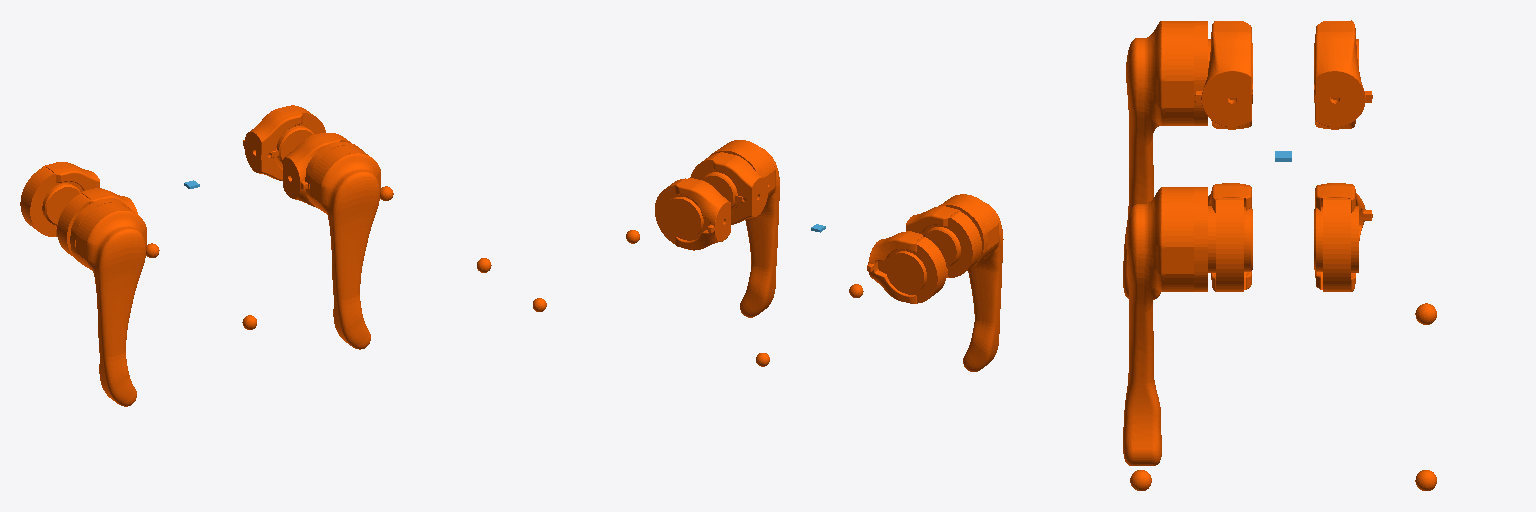
--- What the picture shows (computed from the rendered views, not written in the file) ---
3 views of the same robot in one strip: view 1: azimuth 30°, elevation 25°; view 2: azimuth 150°, elevation 25°; view 3: azimuth 270°, elevation 25° (orthographic).
Robot: robot — 18 links, 17 joints (12 revolute, 5 fixed); root link base; default pose: joints at zero except 4 at the middle of their limits (RF_KFE = -1.81, LF_KFE = -1.81, RH_KFE = -1.81, LH_KFE = -1.81).
Visible links, largest first — view 1: RH_thigh, RF_thigh, LH_hip, LF_hip, RF_hip, RH_hip; view 2: RH_thigh, RF_thigh, LH_hip, LF_hip, RF_hip, RH_hip; view 3: RF_thigh, RH_thigh, LF_hip, LH_hip, RH_hip, RF_hip.
Link boxes in pixels (x1,y1,x2,y2): RH_thigh: (70,199,146,406); RF_thigh: (305,142,380,349); LH_hip: (20,162,99,236); LF_hip: (243,105,325,180); RF_hip: (283,133,350,207); RH_hip: (57,188,137,258); RH_thigh: (939,194,1003,371); RF_thigh: (710,140,779,317); LH_hip: (867,231,946,303); LF_hip: (655,178,730,250); RF_hip: (690,152,769,224); RH_hip: (906,206,981,277); RF_thigh: (1123,187,1207,465); RH_thigh: (1123,21,1207,299); LF_hip: (1314,183,1372,291); LH_hip: (1314,20,1372,129); RH_hip: (1195,21,1252,129); RF_hip: (1208,183,1252,291).
Size in the robot's own frame: 0.6137 by 0.2883 by 0.277 metres.
6 mesh visuals loaded from 5 distinct referenced files (2 binary STL); not drawn: 7 (reference not matched to a file when rendering).

robot.urdf — robot:
<?xml version="1.0" ?>
<!-- from: legged_unitree/legged_unitree_description/urdf/a1.urdf -->
<!-- =================================================================================== -->
<!-- |    This document was autogenerated by xacro from ./robot.xacro                  | -->
<!-- |    EDITING THIS FILE BY HAND IS NOT RECOMMENDED                                 | -->
<!-- =================================================================================== -->
<robot name="robot">
  <material name="black">
    <color rgba="0.0 0.0 0.0 1.0"/>
  </material>
  <material name="blue">
    <color rgba="0.0 0.0 0.8 1.0"/>
  </material>
  <material name="green">
    <color rgba="0.0 0.8 0.0 1.0"/>
  </material>
  <material name="grey">
    <color rgba="0.2 0.2 0.2 1.0"/>
  </material>
  <material name="silver">
    <color rgba="0.9137254901960784 0.9137254901960784 0.8470588235294118 1.0"/>
  </material>
  <material name="orange">
    <color rgba="1.0 0.4235294117647059 0.0392156862745098 1.0"/>
  </material>
  <material name="brown">
    <color rgba="0.8705882352941177 0.8117647058823529 0.7647058823529411 1.0"/>
  </material>
  <material name="red">
    <color rgba="0.8 0.0 0.0 1.0"/>
  </material>
  <material name="white">
    <color rgba="1.0 1.0 1.0 1.0"/>
  </material>
  <!-- ros_control plugin -->
  <gazebo>
    <plugin filename="liblegged_hw_sim.so" name="gazebo_ros_control">
      <robotNamespace>/</robotNamespace>
      <robotParam>legged_robot_description</robotParam>
      <robotSimType>legged_gazebo/LeggedHWSim</robotSimType>
    </plugin>
  </gazebo>
  <gazebo>
    <plugin filename="libgazebo_ros_p3d.so" name="p3d_base_controller">
      <alwaysOn>true</alwaysOn>
      <updateRate>1000.0</updateRate>
      <bodyName>base</bodyName>
      <topicName>ground_truth/state</topicName>
      <gaussianNoise>0</gaussianNoise>
      <frameName>world</frameName>
      <xyzOffsets>0 0 0</xyzOffsets>
      <rpyOffsets>0 0 0</rpyOffsets>
    </plugin>
  </gazebo>
  <gazebo reference="base_link">
    <maxVel>100.</maxVel>
    <kp>10000.</kp>
    <kd>0.</kd>
  </gazebo>
  <gazebo reference="stick_link">
    <mu1>0.2</mu1>
    <mu2>0.2</mu2>
    <material>Gazebo/White</material>
  </gazebo>
  <!-- LF leg -->
  <gazebo reference="LF_hip">
    <mu1>0.2</mu1>
    <mu2>0.2</mu2>
    <material>Gazebo/DarkGrey</material>
  </gazebo>
  <gazebo reference="LF_thigh">
    <mu1>0.2</mu1>
    <mu2>0.2</mu2>
    <self_collide>1</self_collide>
    <material>Gazebo/DarkGrey</material>
    <kp value="1000000.0"/>
    <kd value="1.0"/>
  </gazebo>
  <gazebo reference="LF_calf">
    <mu1>0.2</mu1>
    <mu2>0.2</mu2>
    <self_collide>1</self_collide>
  </gazebo>
  <gazebo reference="LF_FOOT">
    <mu1>0.6</mu1>
    <mu2>0.6</mu2>
    <self_collide>1</self_collide>
    <material>Gazebo/DarkGrey</material>
    <kp value="1000000.0"/>
    <kd value="100.0"/>
  </gazebo>
  <!-- RF leg -->
  <gazebo reference="RF_hip">
    <mu1>0.2</mu1>
    <mu2>0.2</mu2>
    <material>Gazebo/DarkGrey</material>
  </gazebo>
  <gazebo reference="RF_thigh">
    <mu1>0.2</mu1>
    <mu2>0.2</mu2>
    <self_collide>1</self_collide>
    <material>Gazebo/DarkGrey</material>
    <kp value="1000000.0"/>
    <kd value="1.0"/>
  </gazebo>
  <gazebo reference="RF_calf">
    <mu1>0.2</mu1>
    <mu2>0.2</mu2>
    <self_collide>1</self_collide>
  </gazebo>
  <gazebo reference="RF_FOOT">
    <mu1>0.6</mu1>
    <mu2>0.6</mu2>
    <self_collide>1</self_collide>
    <material>Gazebo/DarkGrey</material>
    <kp value="1000000.0"/>
    <kd value="1.0"/>
  </gazebo>
  <!-- LH leg -->
  <gazebo reference="LH_hip">
    <mu1>0.2</mu1>
    <mu2>0.2</mu2>
    <material>Gazebo/DarkGrey</material>
  </gazebo>
  <gazebo reference="LH_thigh">
    <mu1>0.2</mu1>
    <mu2>0.2</mu2>
    <self_collide>1</self_collide>
    <material>Gazebo/DarkGrey</material>
    <kp value="1000000.0"/>
    <kd value="1.0"/>
  </gazebo>
  <gazebo reference="LH_calf">
    <mu1>0.2</mu1>
    <mu2>0.2</mu2>
    <self_collide>1</self_collide>
  </gazebo>
  <gazebo reference="LH_FOOT">
    <mu1>0.6</mu1>
    <mu2>0.6</mu2>
    <self_collide>1</self_collide>
    <material>Gazebo/DarkGrey</material>
    <kp value="1000000.0"/>
    <kd value="1.0"/>
  </gazebo>
  <!-- RH leg -->
  <gazebo reference="RH_hip">
    <mu1>0.2</mu1>
    <mu2>0.2</mu2>
    <material>Gazebo/DarkGrey</material>
  </gazebo>
  <gazebo reference="RH_thigh">
    <mu1>0.2</mu1>
    <mu2>0.2</mu2>
    <self_collide>1</self_collide>
    <material>Gazebo/DarkGrey</material>
    <kp value="1000000.0"/>
    <kd value="1.0"/>
  </gazebo>
  <gazebo reference="RH_calf">
    <mu1>0.2</mu1>
    <mu2>0.2</mu2>
    <self_collide>1</self_collide>
  </gazebo>
  <gazebo reference="RH_FOOT">
    <mu1>0.6</mu1>
    <mu2>0.6</mu2>
    <self_collide>1</self_collide>
    <material>Gazebo/DarkGrey</material>
    <kp value="1000000.0"/>
    <kd value="1.0"/>
  </gazebo>
  <link name="base">
    <visual>
      <origin rpy="0 0 0" xyz="0 0 0"/>
      <geometry>
        <mesh filename="package://meshes/a1/trunk.stl" scale="1 1 1"/>
      </geometry>
    </visual>
    <collision>
      <origin rpy="0 0 0" xyz="0 0 0"/>
      <geometry>
        <box size="0.267 0.194 0.114"/>
      </geometry>
    </collision>
    <inertial>
      <origin rpy="0 0 0" xyz="0.0 0.0041 -0.0005"/>
      <mass value="6.0"/>
      <inertia ixx="0.0158533" ixy="-3.66e-05" ixz="-6.11e-05" iyy="0.0377999" iyz="-2.75e-05" izz="0.0456542"/>
    </inertial>
  </link>
  <!-- Imu is fixed to the base link -->
  <joint name="unitree_imu_joint" type="fixed">
    <origin rpy="0. 0. 0." xyz="0. 0. 0."/>
    <parent link="base"/>
    <child link="unitree_imu"/>
  </joint>
  <!-- Imu link -->
  <link name="unitree_imu">
    <inertial>
      <mass value="0.01"/>
      <origin rpy="0 0 0" xyz="0 0 0"/>
      <inertia ixx="0.000001" ixy="0" ixz="0" iyy="0.000001" iyz="0" izz="0.000001"/>
    </inertial>
    <visual>
      <origin rpy="0 0 0" xyz="0 0 0"/>
      <geometry>
        <box size="0.015 0.015 0.004"/>
      </geometry>
    </visual>
    <material name="orange">
      <color rgba="255 108 10 255"/>
    </material>
  </link>
  <gazebo reference="unitree_imu">
    <material>Gazebo/Orange</material>
  </gazebo>
  <gazebo reference="unitree_imu_joint">
    <disableFixedJointLumping>true</disableFixedJointLumping>
  </gazebo>
  <joint name="RF_HAA" type="revolute">
    <origin rpy="0 0 0" xyz="0.1805 -0.047 0"/>
    <parent link="base"/>
    <child link="RF_hip"/>
    <axis xyz="1 0 0"/>
    <dynamics damping="0" friction="0"/>
    <limit effort="33.5" lower="-0.8028514559173915" upper="0.8028514559173915" velocity="21"/>
  </joint>
  <link name="RF_hip">
    <visual>
      <origin rpy="3.141592653589793 0 0" xyz="0 0 0"/>
      <geometry>
        <mesh filename="package://meshes/a1/hip.stl" scale="1 1 1"/>
      </geometry>
      <material name="orange"/>
    </visual>
    <collision>
      <origin rpy="1.5707963267948966 0 0" xyz="0 0 0"/>
      <geometry>
        <cylinder length="0.04" radius="0.046"/>
      </geometry>
    </collision>
    <inertial>
      <origin rpy="0 0 0" xyz="-0.003875 -0.001622 4.2e-05"/>
      <mass value="0.595"/>
      <inertia ixx="0.000402747" ixy="8.709e-06" ixz="-2.97e-07" iyy="0.000691123" iyz="5.45e-07" izz="0.000487919"/>
    </inertial>
  </link>
  <joint name="RF_HFE" type="revolute">
    <origin rpy="0 0 0" xyz="0 -0.0838 0"/>
    <parent link="RF_hip"/>
    <child link="RF_thigh"/>
    <axis xyz="0 1 0"/>
    <dynamics damping="0" friction="0"/>
    <limit effort="33.5" lower="-1.0471975511965976" upper="4.1887902047863905" velocity="21"/>
  </joint>
  <link name="RF_thigh">
    <visual>
      <origin rpy="0 0 0" xyz="0 0 0"/>
      <geometry>
        <mesh filename="package://meshes/a1/thigh_mirror.stl" scale="1 1 1"/>
      </geometry>
      <material name="orange"/>
    </visual>
    <collision>
      <origin rpy="0 1.6707963267948966 0" xyz="-0.015 0 -0.1"/>
      <geometry>
        <box size="0.2 0.03 0.034"/>
      </geometry>
    </collision>
    <collision>
      <origin rpy="1.5707963267948966 0 0" xyz="0 0.008 0"/>
      <geometry>
        <cylinder length="0.04" radius="0.041"/>
      </geometry>
    </collision>
    <inertial>
      <origin rpy="0 0 0" xyz="-0.003574 0.019529 -0.030323"/>
      <mass value="0.888"/>
      <inertia ixx="0.005251806" ixy="2.168e-06" ixz="0.000346889" iyy="0.005000475" iyz="2.8174e-05" izz="0.0011102"/>
    </inertial>
  </link>
  <joint name="RF_KFE" type="revolute">
    <origin rpy="0 0 0" xyz="0 0 -0.2"/>
    <parent link="RF_thigh"/>
    <child link="RF_calf"/>
    <axis xyz="0 1 0"/>
    <dynamics damping="0" friction="0"/>
    <limit effort="33.5" lower="-2.6965336943312392" upper="-0.9162978572970231" velocity="21"/>
  </joint>
  <link name="RF_calf">
    <visual>
      <origin rpy="0 0 0" xyz="0 0 0"/>
      <geometry>
        <mesh filename="package://meshes/a1/calf.stl" scale="1 1 1"/>
      </geometry>
      <material name="orange"/>
    </visual>
    <collision>
      <origin rpy="0 1.5707963267948966 0" xyz="0 0 -0.1"/>
      <geometry>
        <box size="0.2 0.016 0.016"/>
      </geometry>
    </collision>
    <inertial>
      <origin rpy="0 0 0" xyz="0.007105 -0.000239 -0.096933"/>
      <mass value="0.151"/>
      <inertia ixx="0.002344758" ixy="0.0" ixz="-0.000141275" iyy="0.002360755" iyz="0.0" izz="3.1158e-05"/>
    </inertial>
  </link>
  <joint name="RF_foot_fixed" type="fixed">
    <origin rpy="0 0 0" xyz="0 0 -0.2"/>
    <parent link="RF_calf"/>
    <child link="RF_FOOT"/>
  </joint>
  <link name="RF_FOOT">
    <visual>
      <origin rpy="0 0 0" xyz="0 0 0"/>
      <geometry>
        <sphere radius="0.01"/>
      </geometry>
      <material name="orange"/>
    </visual>
    <collision>
      <origin rpy="0 0 0" xyz="0 0 0"/>
      <geometry>
        <sphere radius="0.02"/>
      </geometry>
    </collision>
    <inertial>
      <mass value="0.06"/>
      <inertia ixx="9.600000000000001e-06" ixy="0.0" ixz="0.0" iyy="9.600000000000001e-06" iyz="0.0" izz="9.600000000000001e-06"/>
    </inertial>
  </link>
  <gazebo reference="RF_foot_fixed">
    <disableFixedJointLumping>true</disableFixedJointLumping>
  </gazebo>
  <transmission name="RF_HAA_tran">
    <type>transmission_interface/SimpleTransmission</type>
    <joint name="RF_HAA">
      <hardwareInterface>hardware_interface/EffortJointInterface</hardwareInterface>
    </joint>
    <actuator name="RF_HAA_motor">
      <hardwareInterface>hardware_interface/EffortJointInterface</hardwareInterface>
      <mechanicalReduction>1</mechanicalReduction>
    </actuator>
  </transmission>
  <transmission name="RF_HFE_tran">
    <type>transmission_interface/SimpleTransmission</type>
    <joint name="RF_HFE">
      <hardwareInterface>hardware_interface/EffortJointInterface</hardwareInterface>
    </joint>
    <actuator name="RF_HFE_motor">
      <hardwareInterface>hardware_interface/EffortJointInterface</hardwareInterface>
      <mechanicalReduction>1</mechanicalReduction>
    </actuator>
  </transmission>
  <transmission name="RF_KFE_tran">
    <type>transmission_interface/SimpleTransmission</type>
    <joint name="RF_KFE">
      <hardwareInterface>hardware_interface/EffortJointInterface</hardwareInterface>
    </joint>
    <actuator name="RF_KFE_motor">
      <hardwareInterface>hardware_interface/EffortJointInterface</hardwareInterface>
      <mechanicalReduction>1</mechanicalReduction>
    </actuator>
  </transmission>
  <joint name="LF_HAA" type="revolute">
    <origin rpy="0 0 0" xyz="0.1805 0.047 0"/>
    <parent link="base"/>
    <child link="LF_hip"/>
    <axis xyz="1 0 0"/>
    <dynamics damping="0" friction="0"/>
    <limit effort="33.5" lower="-0.8028514559173915" upper="0.8028514559173915" velocity="21"/>
  </joint>
  <link name="LF_hip">
    <visual>
      <origin rpy="0 0 0" xyz="0 0 0"/>
      <geometry>
        <mesh filename="package://meshes/a1/hip.stl" scale="1 1 1"/>
      </geometry>
      <material name="orange"/>
    </visual>
    <collision>
      <origin rpy="1.5707963267948966 0 0" xyz="0 0 0"/>
      <geometry>
        <cylinder length="0.04" radius="0.046"/>
      </geometry>
    </collision>
    <inertial>
      <origin rpy="0 0 0" xyz="-0.003875 0.001622 4.2e-05"/>
      <mass value="0.595"/>
      <inertia ixx="0.000402747" ixy="-8.709e-06" ixz="-2.97e-07" iyy="0.000691123" iyz="-5.45e-07" izz="0.000487919"/>
    </inertial>
  </link>
  <joint name="LF_HFE" type="revolute">
    <origin rpy="0 0 0" xyz="0 0.0838 0"/>
    <parent link="LF_hip"/>
    <child link="LF_thigh"/>
    <axis xyz="0 1 0"/>
    <dynamics damping="0" friction="0"/>
    <limit effort="33.5" lower="-1.0471975511965976" upper="4.1887902047863905" velocity="21"/>
  </joint>
  <link name="LF_thigh">
    <visual>
      <origin rpy="0 0 0" xyz="0 0 0"/>
      <geometry>
        <mesh filename="package://meshes/a1/thigh.stl" scale="1 1 1"/>
      </geometry>
      <material name="orange"/>
    </visual>
    <collision>
      <origin rpy="0 1.6707963267948966 0" xyz="-0.015 0 -0.1"/>
      <geometry>
        <box size="0.2 0.03 0.034"/>
      </geometry>
    </collision>
    <collision>
      <origin rpy="1.5707963267948966 0 0" xyz="0 -0.008 0"/>
      <geometry>
        <cylinder length="0.04" radius="0.041"/>
      </geometry>
    </collision>
    <inertial>
      <origin rpy="0 0 0" xyz="-0.003574 -0.019529 -0.030323"/>
      <mass value="0.888"/>
      <inertia ixx="0.005251806" ixy="-2.168e-06" ixz="0.000346889" iyy="0.005000475" iyz="-2.8174e-05" izz="0.0011102"/>
    </inertial>
  </link>
  <joint name="LF_KFE" type="revolute">
    <origin rpy="0 0 0" xyz="0 0 -0.2"/>
    <parent link="LF_thigh"/>
    <child link="LF_calf"/>
    <axis xyz="0 1 0"/>
    <dynamics damping="0" friction="0"/>
    <limit effort="33.5" lower="-2.6965336943312392" upper="-0.9162978572970231" velocity="21"/>
  </joint>
  <link name="LF_calf">
    <visual>
      <origin rpy="0 0 0" xyz="0 0 0"/>
      <geometry>
        <mesh filename="package://meshes/a1/calf.stl" scale="1 1 1"/>
      </geometry>
      <material name="orange"/>
    </visual>
    <collision>
      <origin rpy="0 1.5707963267948966 0" xyz="0 0 -0.1"/>
      <geometry>
        <box size="0.2 0.016 0.016"/>
      </geometry>
    </collision>
    <inertial>
      <origin rpy="0 0 0" xyz="0.007105 -0.000239 -0.096933"/>
      <mass value="0.151"/>
      <inertia ixx="0.002344758" ixy="0.0" ixz="-0.000141275" iyy="0.002360755" iyz="0.0" izz="3.1158e-05"/>
    </inertial>
  </link>
  <joint name="LF_foot_fixed" type="fixed">
    <origin rpy="0 0 0" xyz="0 0 -0.2"/>
    <parent link="LF_calf"/>
    <child link="LF_FOOT"/>
  </joint>
  <link name="LF_FOOT">
    <visual>
      <origin rpy="0 0 0" xyz="0 0 0"/>
      <geometry>
        <sphere radius="0.01"/>
      </geometry>
      <material name="orange"/>
    </visual>
    <collision>
      <origin rpy="0 0 0" xyz="0 0 0"/>
      <geometry>
        <sphere radius="0.02"/>
      </geometry>
    </collision>
    <inertial>
      <mass value="0.06"/>
      <inertia ixx="9.600000000000001e-06" ixy="0.0" ixz="0.0" iyy="9.600000000000001e-06" iyz="0.0" izz="9.600000000000001e-06"/>
    </inertial>
  </link>
  <gazebo reference="LF_foot_fixed">
    <disableFixedJointLumping>true</disableFixedJointLumping>
  </gazebo>
  <transmission name="LF_HAA_tran">
    <type>transmission_interface/SimpleTransmission</type>
    <joint name="LF_HAA">
      <hardwareInterface>hardware_interface/EffortJointInterface</hardwareInterface>
    </joint>
    <actuator name="LF_HAA_motor">
      <hardwareInterface>hardware_interface/EffortJointInterface</hardwareInterface>
      <mechanicalReduction>1</mechanicalReduction>
    </actuator>
  </transmission>
  <transmission name="LF_HFE_tran">
    <type>transmission_interface/SimpleTransmission</type>
    <joint name="LF_HFE">
      <hardwareInterface>hardware_interface/EffortJointInterface</hardwareInterface>
    </joint>
    <actuator name="LF_HFE_motor">
      <hardwareInterface>hardware_interface/EffortJointInterface</hardwareInterface>
      <mechanicalReduction>1</mechanicalReduction>
    </actuator>
  </transmission>
  <transmission name="LF_KFE_tran">
    <type>transmission_interface/SimpleTransmission</type>
    <joint name="LF_KFE">
      <hardwareInterface>hardware_interface/EffortJointInterface</hardwareInterface>
    </joint>
    <actuator name="LF_KFE_motor">
      <hardwareInterface>hardware_interface/EffortJointInterface</hardwareInterface>
      <mechanicalReduction>1</mechanicalReduction>
    </actuator>
  </transmission>
  <joint name="RH_HAA" type="revolute">
    <origin rpy="0 0 0" xyz="-0.1805 -0.047 0"/>
    <parent link="base"/>
    <child link="RH_hip"/>
    <axis xyz="1 0 0"/>
    <dynamics damping="0" friction="0"/>
    <limit effort="33.5" lower="-0.8028514559173915" upper="0.8028514559173915" velocity="21"/>
  </joint>
  <link name="RH_hip">
    <visual>
      <origin rpy="3.141592653589793 3.141592653589793 0" xyz="0 0 0"/>
      <geometry>
        <mesh filename="package://meshes/a1/hip.stl" scale="1 1 1"/>
      </geometry>
      <material name="orange"/>
    </visual>
    <collision>
      <origin rpy="1.5707963267948966 0 0" xyz="0 0 0"/>
      <geometry>
        <cylinder length="0.04" radius="0.046"/>
      </geometry>
    </collision>
    <inertial>
      <origin rpy="0 0 0" xyz="0.003875 -0.001622 4.2e-05"/>
      <mass value="0.595"/>
      <inertia ixx="0.000402747" ixy="-8.709e-06" ixz="2.97e-07" iyy="0.000691123" iyz="5.45e-07" izz="0.000487919"/>
    </inertial>
  </link>
  <joint name="RH_HFE" type="revolute">
    <origin rpy="0 0 0" xyz="0 -0.0838 0"/>
    <parent link="RH_hip"/>
    <child link="RH_thigh"/>
    <axis xyz="0 1 0"/>
    <dynamics damping="0" friction="0"/>
    <limit effort="33.5" lower="-1.0471975511965976" upper="4.1887902047863905" velocity="21"/>
  </joint>
  <link name="RH_thigh">
    <visual>
      <origin rpy="0 0 0" xyz="0 0 0"/>
      <geometry>
        <mesh filename="package://meshes/a1/thigh_mirror.stl" scale="1 1 1"/>
      </geometry>
      <material name="orange"/>
    </visual>
    <collision>
      <origin rpy="0 1.6707963267948966 0" xyz="-0.015 0 -0.1"/>
      <geometry>
        <box size="0.2 0.03 0.034"/>
      </geometry>
    </collision>
    <collision>
      <origin rpy="1.5707963267948966 0 0" xyz="0 0.008 0"/>
      <geometry>
        <cylinder length="0.04" radius="0.041"/>
      </geometry>
    </collision>
    <inertial>
      <origin rpy="0 0 0" xyz="-0.003574 0.019529 -0.030323"/>
      <mass value="0.888"/>
      <inertia ixx="0.005251806" ixy="2.168e-06" ixz="0.000346889" iyy="0.005000475" iyz="2.8174e-05" izz="0.0011102"/>
    </inertial>
  </link>
  <joint name="RH_KFE" type="revolute">
    <origin rpy="0 0 0" xyz="0 0 -0.2"/>
    <parent link="RH_thigh"/>
    <child link="RH_calf"/>
    <axis xyz="0 1 0"/>
    <dynamics damping="0" friction="0"/>
    <limit effort="33.5" lower="-2.6965336943312392" upper="-0.9162978572970231" velocity="21"/>
  </joint>
  <link name="RH_calf">
    <visual>
      <origin rpy="0 0 0" xyz="0 0 0"/>
      <geometry>
        <mesh filename="package://meshes/a1/calf.stl" scale="1 1 1"/>
      </geometry>
      <material name="orange"/>
    </visual>
    <collision>
      <origin rpy="0 1.5707963267948966 0" xyz="0 0 -0.1"/>
      <geometry>
        <box size="0.2 0.016 0.016"/>
      </geometry>
    </collision>
    <inertial>
      <origin rpy="0 0 0" xyz="0.007105 -0.000239 -0.096933"/>
      <mass value="0.151"/>
      <inertia ixx="0.002344758" ixy="0.0" ixz="-0.000141275" iyy="0.002360755" iyz="0.0" izz="3.1158e-05"/>
    </inertial>
  </link>
  <joint name="RH_foot_fixed" type="fixed">
    <origin rpy="0 0 0" xyz="0 0 -0.2"/>
    <parent link="RH_calf"/>
    <child link="RH_FOOT"/>
  </joint>
  <link name="RH_FOOT">
    <visual>
      <origin rpy="0 0 0" xyz="0 0 0"/>
      <geometry>
        <sphere radius="0.01"/>
      </geometry>
      <material name="orange"/>
    </visual>
    <collision>
      <origin rpy="0 0 0" xyz="0 0 0"/>
      <geometry>
        <sphere radius="0.02"/>
      </geometry>
    </collision>
    <inertial>
      <mass value="0.06"/>
      <inertia ixx="9.600000000000001e-06" ixy="0.0" ixz="0.0" iyy="9.600000000000001e-06" iyz="0.0" izz="9.600000000000001e-06"/>
    </inertial>
  </link>
  <gazebo reference="RH_foot_fixed">
    <disableFixedJointLumping>true</disableFixedJointLumping>
  </gazebo>
  <transmission name="RH_HAA_tran">
    <type>transmission_interface/SimpleTransmission</type>
    <joint name="RH_HAA">
      <hardwareInterface>hardware_interface/EffortJointInterface</hardwareInterface>
    </joint>
    <actuator name="RH_HAA_motor">
      <hardwareInterface>hardware_interface/EffortJointInterface</hardwareInterface>
      <mechanicalReduction>1</mechanicalReduction>
    </actuator>
  </transmission>
  <transmission name="RH_HFE_tran">
    <type>transmission_interface/SimpleTransmission</type>
    <joint name="RH_HFE">
      <hardwareInterface>hardware_interface/EffortJointInterface</hardwareInterface>
    </joint>
    <actuator name="RH_HFE_motor">
      <hardwareInterface>hardware_interface/EffortJointInterface</hardwareInterface>
      <mechanicalReduction>1</mechanicalReduction>
    </actuator>
  </transmission>
  <transmission name="RH_KFE_tran">
    <type>transmission_interface/SimpleTransmission</type>
    <joint name="RH_KFE">
      <hardwareInterface>hardware_interface/EffortJointInterface</hardwareInterface>
    </joint>
    <actuator name="RH_KFE_motor">
      <hardwareInterface>hardware_interface/EffortJointInterface</hardwareInterface>
      <mechanicalReduction>1</mechanicalReduction>
    </actuator>
  </transmission>
  <joint name="LH_HAA" type="revolute">
    <origin rpy="0 0 0" xyz="-0.1805 0.047 0"/>
    <parent link="base"/>
    <child link="LH_hip"/>
    <axis xyz="1 0 0"/>
    <dynamics damping="0" friction="0"/>
    <limit effort="33.5" lower="-0.8028514559173915" upper="0.8028514559173915" velocity="21"/>
  </joint>
  <link name="LH_hip">
    <visual>
      <origin rpy="0 3.141592653589793 0" xyz="0 0 0"/>
      <geometry>
        <mesh filename="package://meshes/a1/hip.stl" scale="1 1 1"/>
      </geometry>
      <material name="orange"/>
    </visual>
    <collision>
      <origin rpy="1.5707963267948966 0 0" xyz="0 0 0"/>
      <geometry>
        <cylinder length="0.04" radius="0.046"/>
      </geometry>
    </collision>
    <inertial>
      <origin rpy="0 0 0" xyz="0.003875 0.001622 4.2e-05"/>
      <mass value="0.595"/>
      <inertia ixx="0.000402747" ixy="8.709e-06" ixz="2.97e-07" iyy="0.000691123" iyz="-5.45e-07" izz="0.000487919"/>
    </inertial>
  </link>
  <joint name="LH_HFE" type="revolute">
    <origin rpy="0 0 0" xyz="0 0.0838 0"/>
    <parent link="LH_hip"/>
    <child link="LH_thigh"/>
    <axis xyz="0 1 0"/>
    <dynamics damping="0" friction="0"/>
    <limit effort="33.5" lower="-1.0471975511965976" upper="4.1887902047863905" velocity="21"/>
  </joint>
  <link name="LH_thigh">
    <visual>
      <origin rpy="0 0 0" xyz="0 0 0"/>
      <geometry>
        <mesh filename="package://meshes/a1/thigh.stl" scale="1 1 1"/>
      </geometry>
      <material name="orange"/>
    </visual>
    <collision>
      <origin rpy="0 1.6707963267948966 0" xyz="-0.015 0 -0.1"/>
      <geometry>
        <box size="0.2 0.03 0.034"/>
      </geometry>
    </collision>
    <collision>
      <origin rpy="1.5707963267948966 0 0" xyz="0 -0.008 0"/>
      <geometry>
        <cylinder length="0.04" radius="0.041"/>
      </geometry>
    </collision>
    <inertial>
      <origin rpy="0 0 0" xyz="-0.003574 -0.019529 -0.030323"/>
      <mass value="0.888"/>
      <inertia ixx="0.005251806" ixy="-2.168e-06" ixz="0.000346889" iyy="0.005000475" iyz="-2.8174e-05" izz="0.0011102"/>
    </inertial>
  </link>
  <joint name="LH_KFE" type="revolute">
    <origin rpy="0 0 0" xyz="0 0 -0.2"/>
    <parent link="LH_thigh"/>
    <child link="LH_calf"/>
    <axis xyz="0 1 0"/>
    <dynamics damping="0" friction="0"/>
    <limit effort="33.5" lower="-2.6965336943312392" upper="-0.9162978572970231" velocity="21"/>
  </joint>
  <link name="LH_calf">
    <visual>
      <origin rpy="0 0 0" xyz="0 0 0"/>
      <geometry>
        <mesh filename="package://meshes/a1/calf.stl" scale="1 1 1"/>
      </geometry>
      <material name="orange"/>
    </visual>
    <collision>
      <origin rpy="0 1.5707963267948966 0" xyz="0 0 -0.1"/>
      <geometry>
        <box size="0.2 0.016 0.016"/>
      </geometry>
    </collision>
    <inertial>
      <origin rpy="0 0 0" xyz="0.007105 -0.000239 -0.096933"/>
      <mass value="0.151"/>
      <inertia ixx="0.002344758" ixy="0.0" ixz="-0.000141275" iyy="0.002360755" iyz="0.0" izz="3.1158e-05"/>
    </inertial>
  </link>
  <joint name="LH_foot_fixed" type="fixed">
    <origin rpy="0 0 0" xyz="0 0 -0.2"/>
    <parent link="LH_calf"/>
    <child link="LH_FOOT"/>
  </joint>
  <link name="LH_FOOT">
    <visual>
      <origin rpy="0 0 0" xyz="0 0 0"/>
      <geometry>
        <sphere radius="0.01"/>
      </geometry>
      <material name="orange"/>
    </visual>
    <collision>
      <origin rpy="0 0 0" xyz="0 0 0"/>
      <geometry>
        <sphere radius="0.02"/>
      </geometry>
    </collision>
    <inertial>
      <mass value="0.06"/>
      <inertia ixx="9.600000000000001e-06" ixy="0.0" ixz="0.0" iyy="9.600000000000001e-06" iyz="0.0" izz="9.600000000000001e-06"/>
    </inertial>
  </link>
  <gazebo reference="LH_foot_fixed">
    <disableFixedJointLumping>true</disableFixedJointLumping>
  </gazebo>
  <transmission name="LH_HAA_tran">
    <type>transmission_interface/SimpleTransmission</type>
    <joint name="LH_HAA">
      <hardwareInterface>hardware_interface/EffortJointInterface</hardwareInterface>
    </joint>
    <actuator name="LH_HAA_motor">
      <hardwareInterface>hardware_interface/EffortJointInterface</hardwareInterface>
      <mechanicalReduction>1</mechanicalReduction>
    </actuator>
  </transmission>
  <transmission name="LH_HFE_tran">
    <type>transmission_interface/SimpleTransmission</type>
    <joint name="LH_HFE">
      <hardwareInterface>hardware_interface/EffortJointInterface</hardwareInterface>
    </joint>
    <actuator name="LH_HFE_motor">
      <hardwareInterface>hardware_interface/EffortJointInterface</hardwareInterface>
      <mechanicalReduction>1</mechanicalReduction>
    </actuator>
  </transmission>
  <transmission name="LH_KFE_tran">
    <type>transmission_interface/SimpleTransmission</type>
    <joint name="LH_KFE">
      <hardwareInterface>hardware_interface/EffortJointInterface</hardwareInterface>
    </joint>
    <actuator name="LH_KFE_motor">
      <hardwareInterface>hardware_interface/EffortJointInterface</hardwareInterface>
      <mechanicalReduction>1</mechanicalReduction>
    </actuator>
  </transmission>
</robot>
